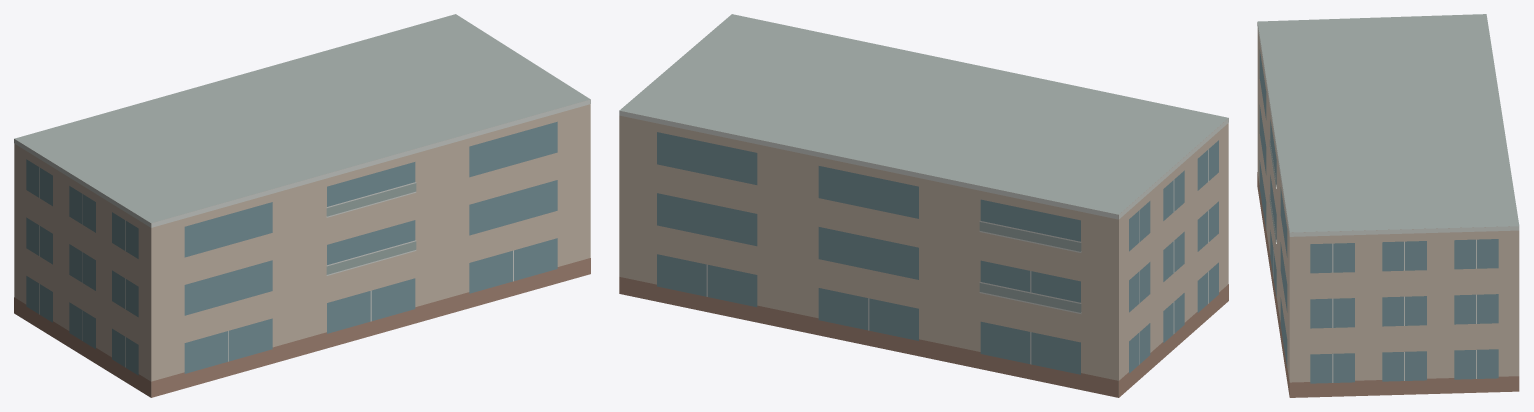
The model's file is survey-upis-32770277.glb.
3 views of the same model, side by side, from view 1: azimuth 30°, elevation 25°; view 2: azimuth 150°, elevation 25°; view 3: azimuth 270°, elevation 25° (orthographic). The views are drawn at different scales.
Parts seen in each view (by area): view 1: survey-upis-32770277.tmp; view 2: survey-upis-32770277.tmp; view 3: survey-upis-32770277.tmp.
Boxes of the visible parts, x1,y1,x2,y2 form: survey-upis-32770277.tmp: (14, 14, 590, 397); survey-upis-32770277.tmp: (619, 14, 1228, 397); survey-upis-32770277.tmp: (1257, 14, 1519, 397).
Size of the model in its own units: 25.93 by 9.15 by 13.14.
